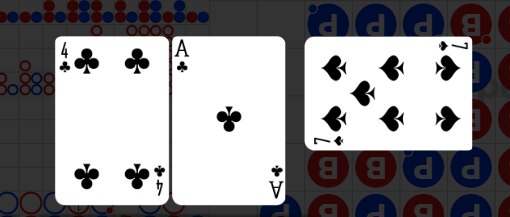4C: (151, 163, 166, 197)
7S: (436, 39, 469, 53)
AC: (174, 39, 192, 78)
